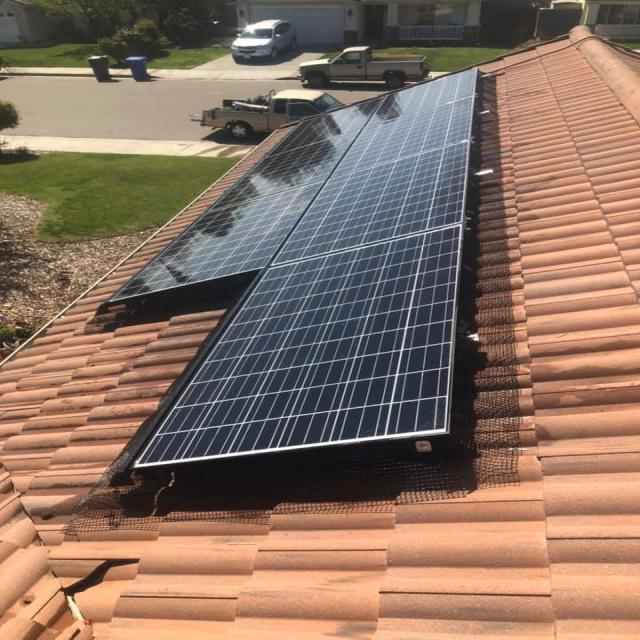clean-solar-panel: (115, 70, 477, 469)
